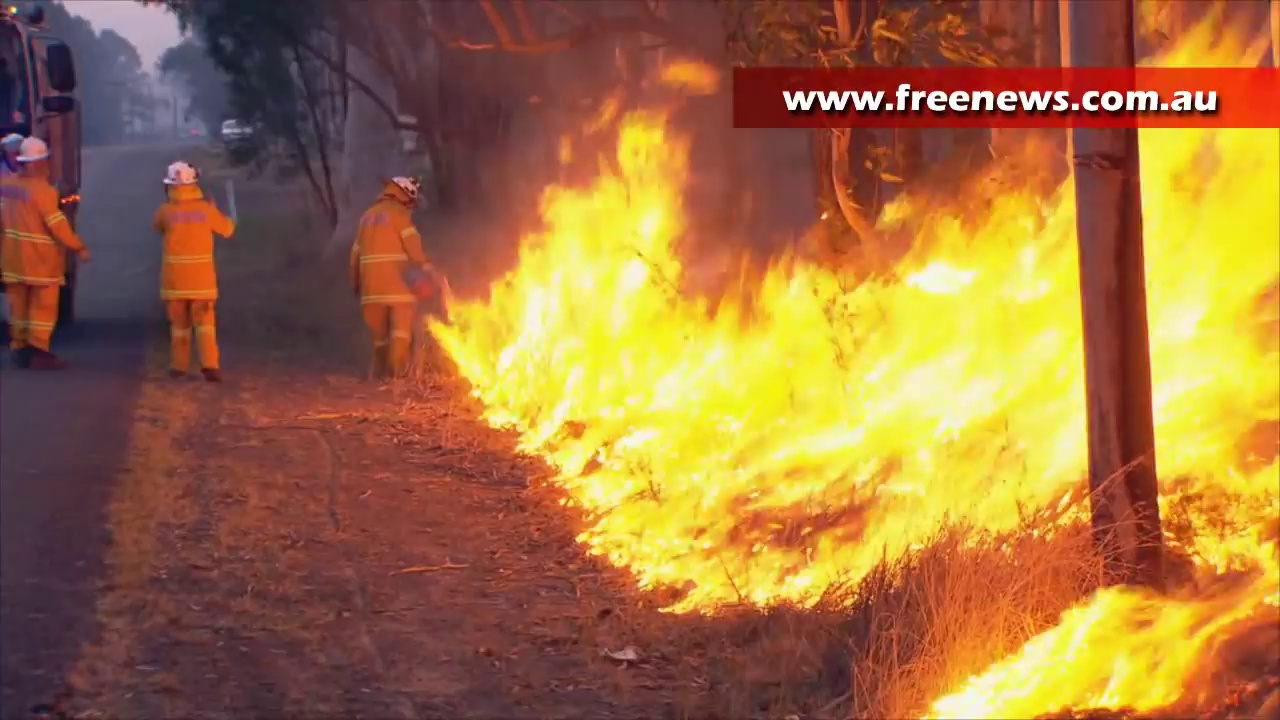fire: (443, 124, 1070, 586), (1140, 131, 1275, 560), (922, 585, 1253, 720)
